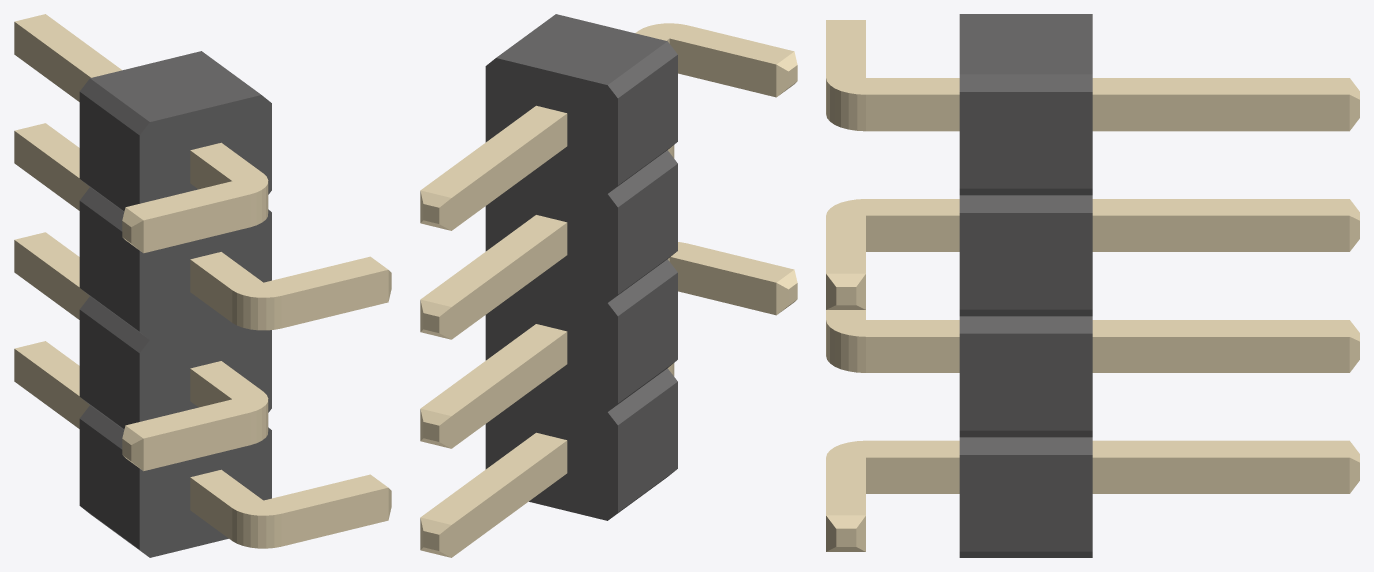
Rendered from PinHeader_1x04_P1.00mm_Vertical_SMD_Pin1Right.glb.
3 renders of one model, left to right at view 1: azimuth 30°, elevation 25°; view 2: azimuth 150°, elevation 25°; view 3: azimuth 270°, elevation 25°, orthographic. The views are drawn at different scales.
Parts seen in each view (by area): view 1: Shape_IndexedFaceSet.003, Shape_IndexedFaceSet.001, Shape_IndexedFaceSet.013, Shape_IndexedFaceSet.025, Shape_IndexedFaceSet.019, Shape_IndexedFaceSet.007, Shape_IndexedFaceSet.038, Shape_IndexedFaceSet.042, Shape_IndexedFaceSet.033, Shape_IndexedFaceSet.029, Shape_IndexedFaceSet.063, Shape_IndexedFaceSet.078 (+22 smaller); view 2: Shape_IndexedFaceSet.004, Shape_IndexedFaceSet.001, Shape_IndexedFaceSet.013, Shape_IndexedFaceSet.007, Shape_IndexedFaceSet.019, Shape_IndexedFaceSet.025, Shape_IndexedFaceSet.044, Shape_IndexedFaceSet.057, Shape_IndexedFaceSet.048, Shape_IndexedFaceSet.053, Shape_IndexedFaceSet.054, Shape_IndexedFaceSet.045 (+10 smaller); view 3: Shape_IndexedFaceSet.016, Shape_IndexedFaceSet.002, Shape_IndexedFaceSet.010, Shape_IndexedFaceSet.022, Shape_IndexedFaceSet.046, Shape_IndexedFaceSet.055, Shape_IndexedFaceSet.059, Shape_IndexedFaceSet.050, Shape_IndexedFaceSet.001, Shape_IndexedFaceSet.058, Shape_IndexedFaceSet.042, Shape_IndexedFaceSet.038 (+19 smaller).
Boxes of the visible parts, x1,y1,x2,y2 form: Shape_IndexedFaceSet.003: [139, 95, 271, 557]; Shape_IndexedFaceSet.001: [90, 51, 260, 121]; Shape_IndexedFaceSet.013: [79, 201, 139, 331]; Shape_IndexedFaceSet.025: [79, 419, 139, 549]; Shape_IndexedFaceSet.019: [79, 310, 139, 429]; Shape_IndexedFaceSet.007: [79, 92, 139, 211]; Shape_IndexedFaceSet.038: [190, 252, 387, 297]; Shape_IndexedFaceSet.042: [190, 469, 387, 515]; Shape_IndexedFaceSet.033: [126, 361, 268, 438]; Shape_IndexedFaceSet.029: [126, 142, 268, 220]; Shape_IndexedFaceSet.063: [143, 194, 250, 252]; Shape_IndexedFaceSet.078: [281, 487, 388, 546]; Shape_IndexedFaceSet.004: [485, 58, 617, 520]; Shape_IndexedFaceSet.001: [496, 14, 667, 84]; Shape_IndexedFaceSet.013: [618, 164, 677, 294]; Shape_IndexedFaceSet.007: [618, 55, 677, 185]; Shape_IndexedFaceSet.019: [618, 272, 677, 403]; Shape_IndexedFaceSet.025: [618, 382, 677, 512]; Shape_IndexedFaceSet.044: [451, 113, 567, 230]; Shape_IndexedFaceSet.057: [451, 440, 567, 557]; Shape_IndexedFaceSet.048: [451, 332, 567, 448]; Shape_IndexedFaceSet.053: [451, 223, 567, 339]; Shape_IndexedFaceSet.054: [420, 215, 566, 306]; Shape_IndexedFaceSet.045: [420, 105, 566, 197]; Shape_IndexedFaceSet.016: [959, 333, 1092, 430]; Shape_IndexedFaceSet.002: [959, 92, 1092, 188]; Shape_IndexedFaceSet.010: [959, 213, 1092, 309]; Shape_IndexedFaceSet.022: [959, 455, 1092, 551]; Shape_IndexedFaceSet.046: [1092, 94, 1349, 131]; Shape_IndexedFaceSet.055: [1092, 215, 1349, 251]; Shape_IndexedFaceSet.059: [1092, 457, 1349, 493]; Shape_IndexedFaceSet.050: [1092, 337, 1349, 372]; Shape_IndexedFaceSet.001: [959, 14, 1092, 74]; Shape_IndexedFaceSet.058: [1092, 440, 1349, 457]; Shape_IndexedFaceSet.042: [826, 440, 959, 515]; Shape_IndexedFaceSet.038: [826, 199, 959, 273].
Size of the model in its own units: 0.984 by 1.57 by 1.58.
